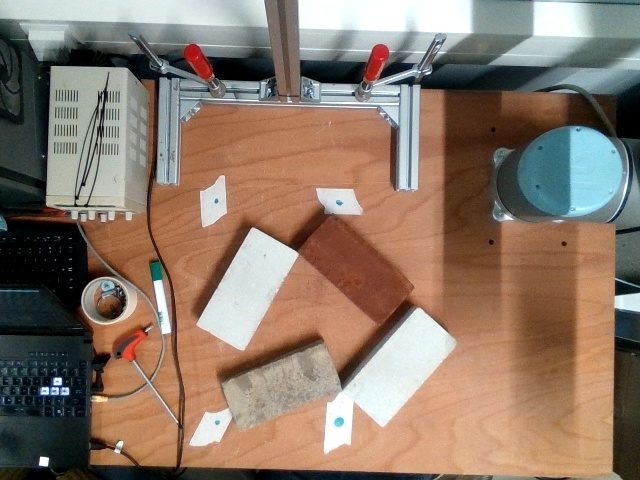brick: (342, 307, 458, 427), (196, 228, 298, 351), (299, 215, 410, 323), (219, 343, 342, 433)
